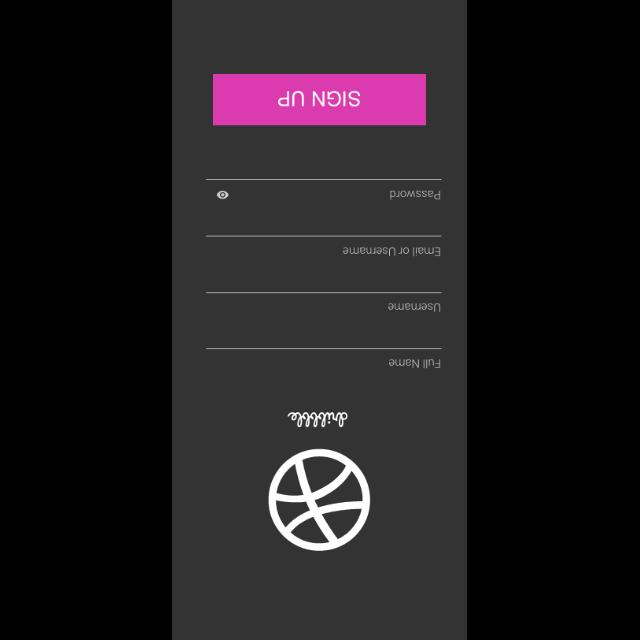icon: (217, 190, 229, 200)
image: (269, 448, 371, 550), (288, 411, 348, 427)
input: (205, 178, 442, 200), (206, 235, 442, 257), (207, 348, 443, 368), (207, 292, 443, 312)
text: (344, 247, 441, 257), (390, 190, 442, 200), (388, 302, 440, 312), (389, 359, 441, 369)
textbutton: (213, 73, 427, 125)
